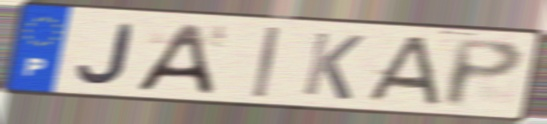A: (130, 22, 217, 96), (359, 35, 445, 109)
I: (250, 24, 283, 100)
J: (74, 21, 138, 87)
K: (298, 29, 368, 103)
P: (441, 37, 527, 111)
